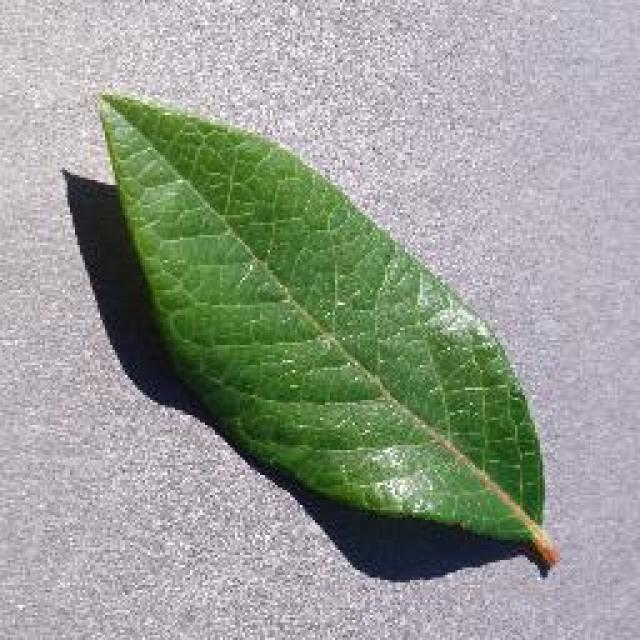Blu_healthy: (142, 155, 458, 485)
